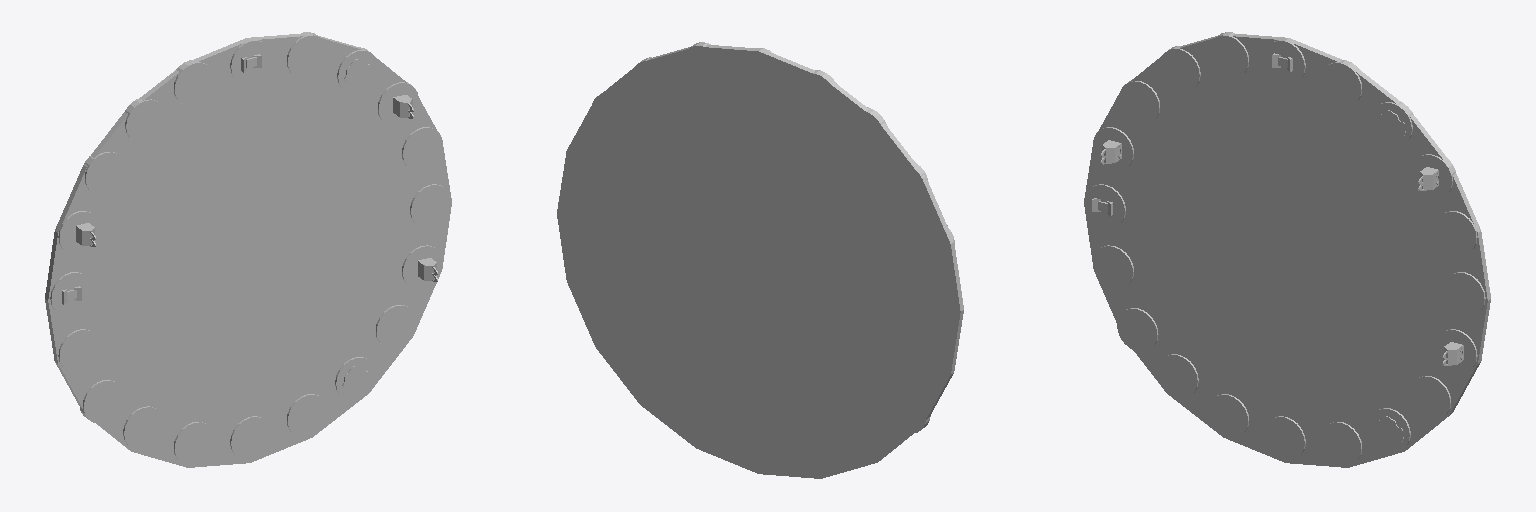
The model's file is Gluttony.obj.
3 renders of one model, left to right at view 1: azimuth 30°, elevation 25°; view 2: azimuth 150°, elevation 25°; view 3: azimuth 330°, elevation 25°, orthographic.
Parts seen in each view (by area): view 1: obj_0; view 2: obj_0; view 3: obj_0.
Boxes of the visible parts, <box> form: obj_0: <box>45,32,451,467</box>; obj_0: <box>557,42,963,478</box>; obj_0: <box>1084,32,1490,467</box>.
Size of the model in its own units: 200 by 200 by 15.9.